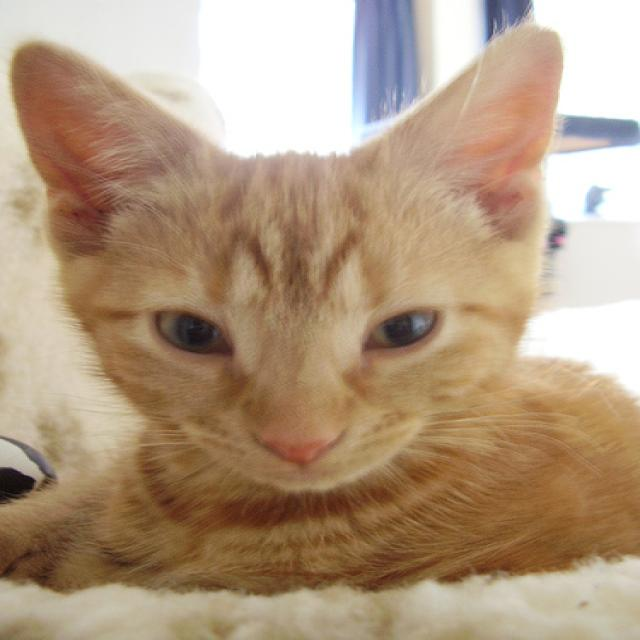cat: (1, 12, 639, 597)
